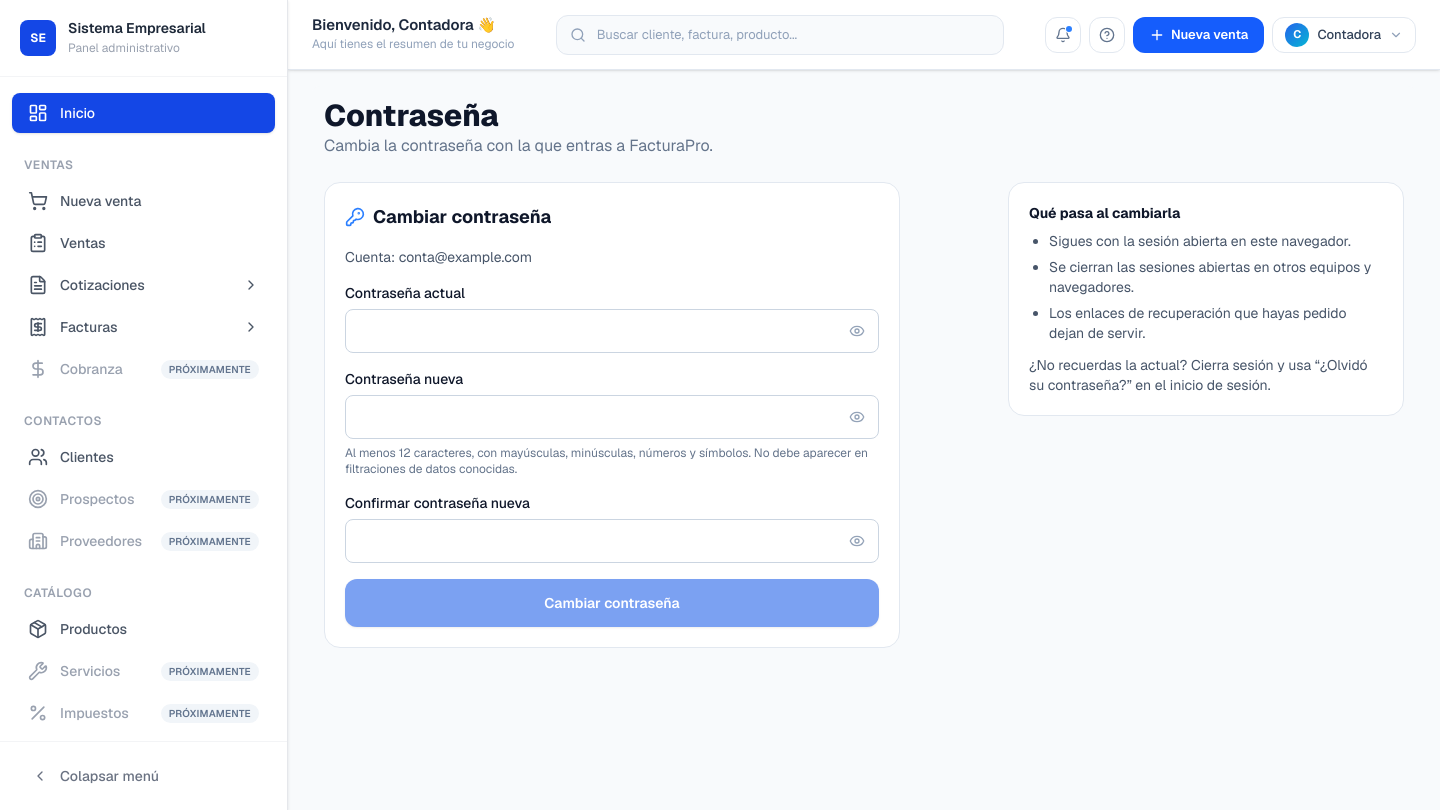
Scenario: Configuración > Seguridad > Contraseña (Fase 6.32) › cualquier rol cambia su contraseña, sigue en la pantalla con el token nuevo y ve el resultado
Expected: the text "Cuenta: conta@example.com" is shown, [345,248,532,266]
Expected: the list item "Se cierran las sesiones abiertas en otros equipos" is shown, [1049,258,1371,296]
Type "Actual-2026" into the password field labelled "Contraseña actual".
click(612, 331); type("Actual-2026")  # box [345,309,879,353]
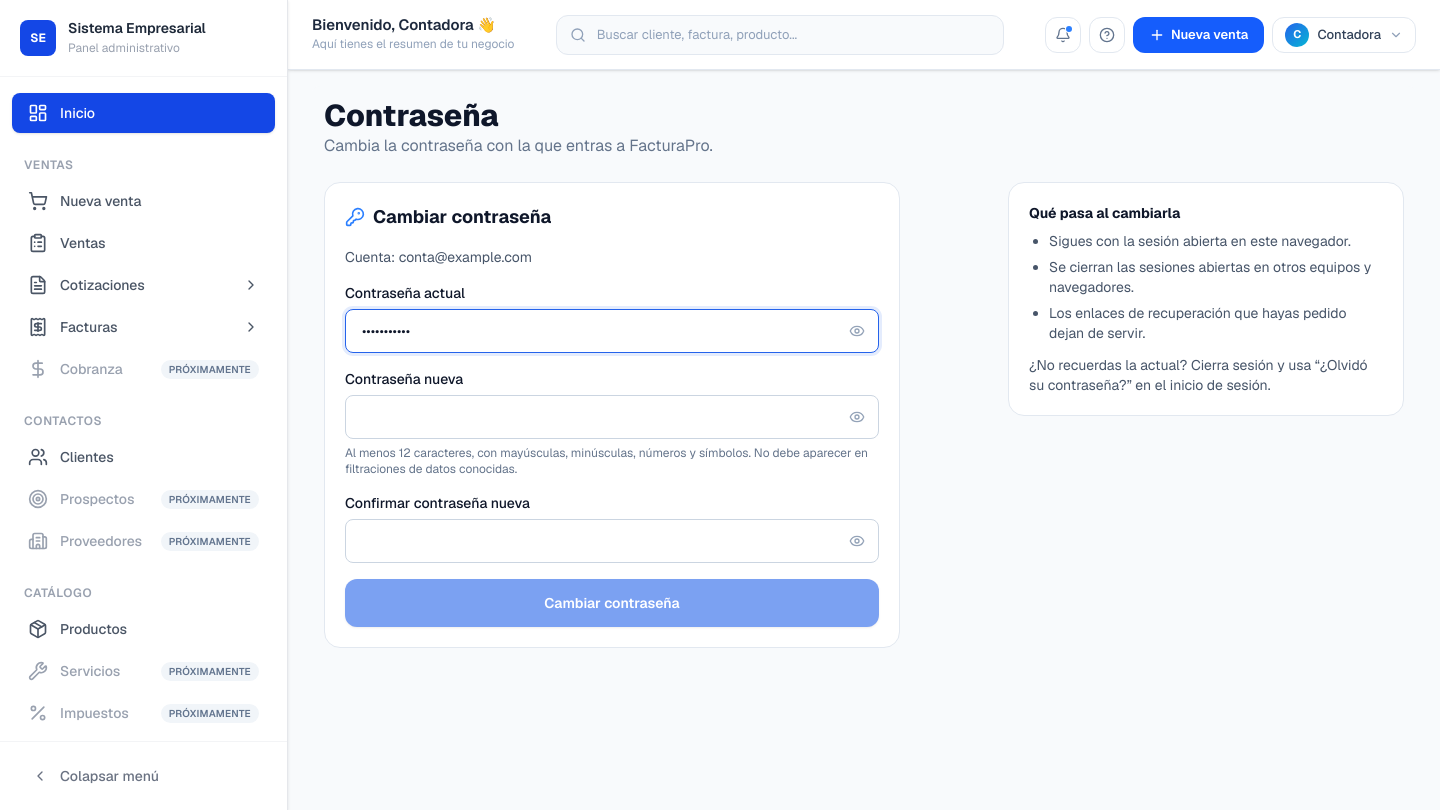
Type "Nueva-Segura-2026!" into the password field labelled "Contraseña nueva".
click(612, 417); type("Nueva-Segura-2026!")  # box [345,395,879,439]
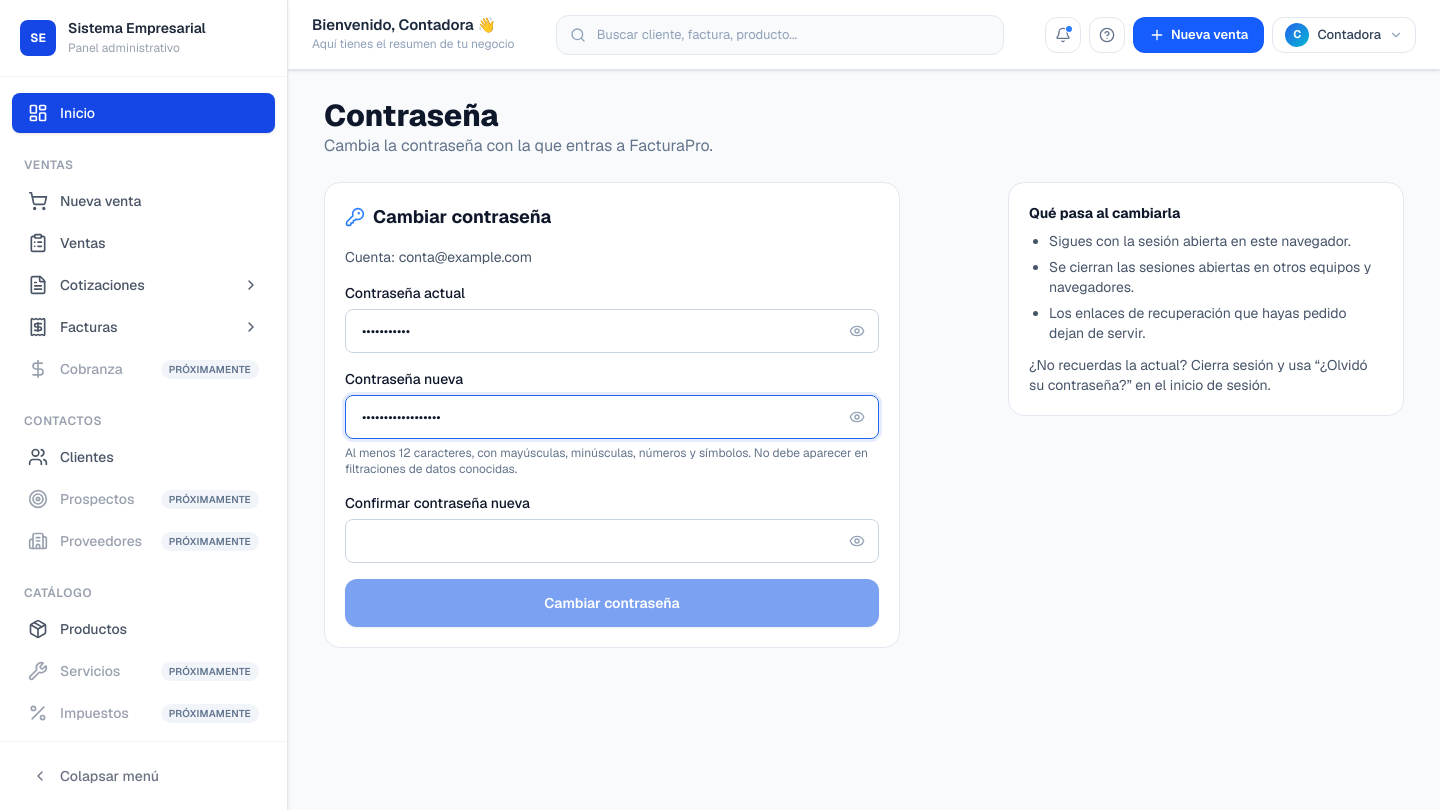
Type "Nueva-Segura-2026!" into the password field labelled "Confirmar contraseña nueva".
click(612, 541); type("Nueva-Segura-2026!")  # box [345,519,879,563]
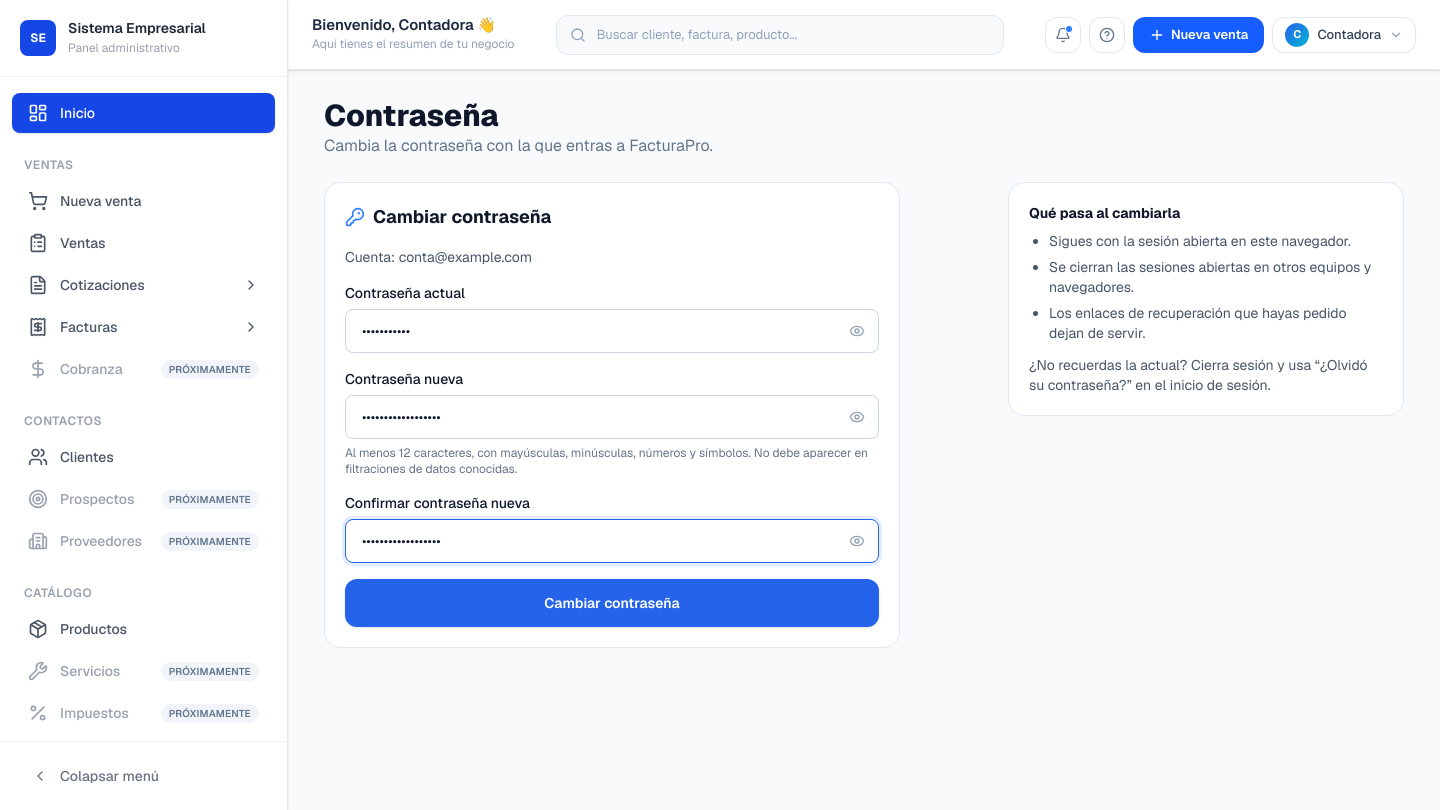
Click the button "Cambiar contraseña".
click(612, 603)  # box [345,579,879,627]
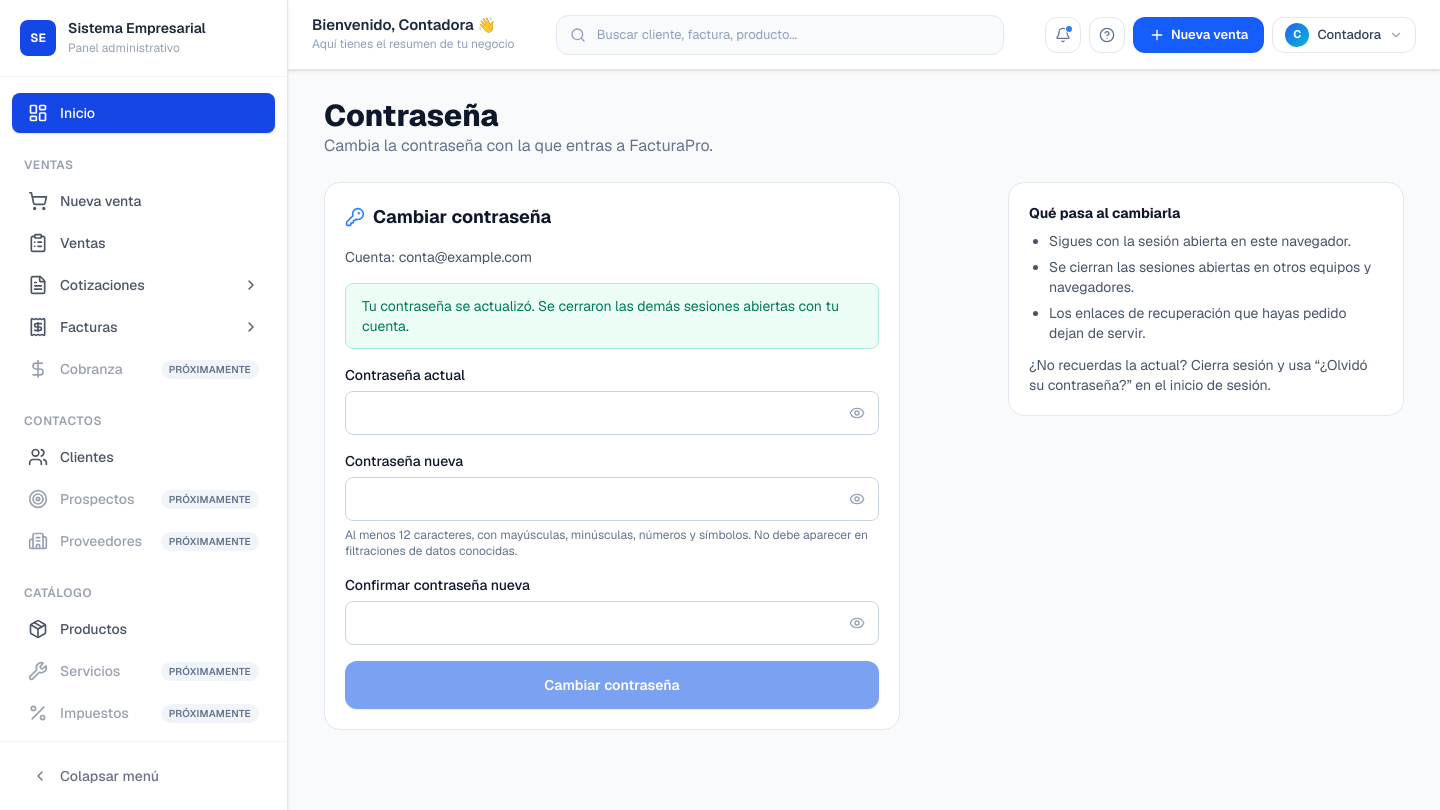
Result: the message shows "Tu contraseña se actualizó. Se cerraron las demás sesiones abiertas con tu cuenta." at [362,297,839,335]
Result: the password field labelled "Contraseña actual" is empty at [345,391,879,435]
